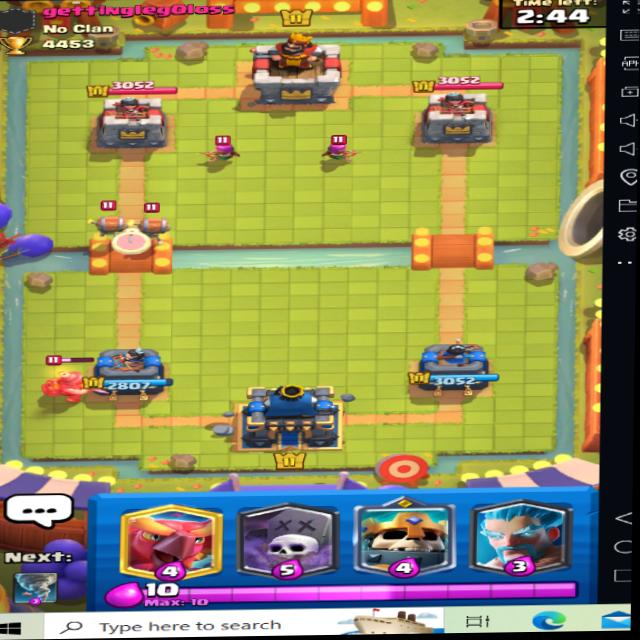archer: (312, 129, 379, 172), (202, 132, 250, 165)
miner: (39, 347, 100, 408)
wall-breaker: (134, 196, 179, 249), (79, 199, 132, 241)
